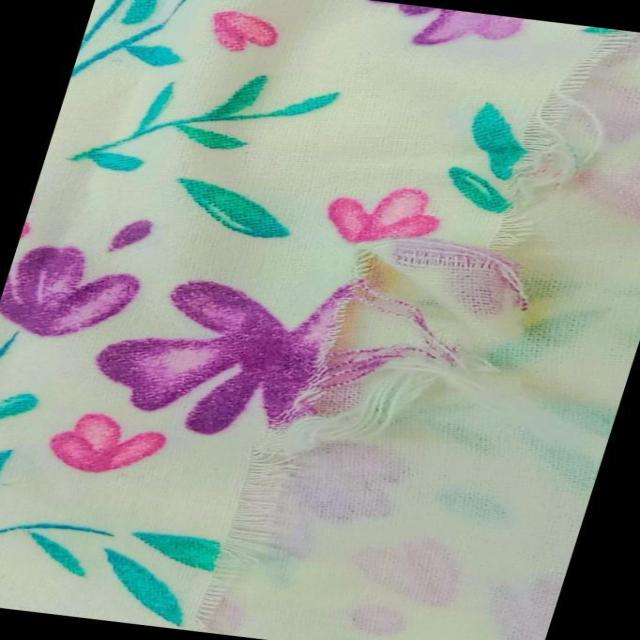cut: (237, 22, 639, 516)
